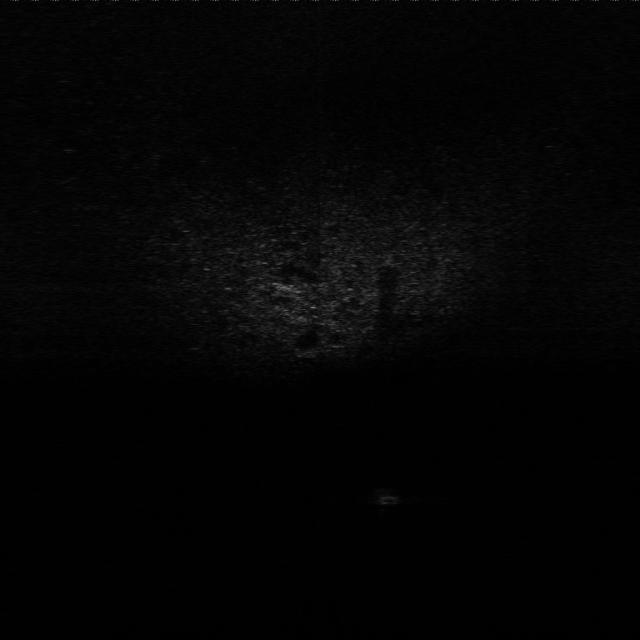cylinder: (376, 486, 404, 508)
